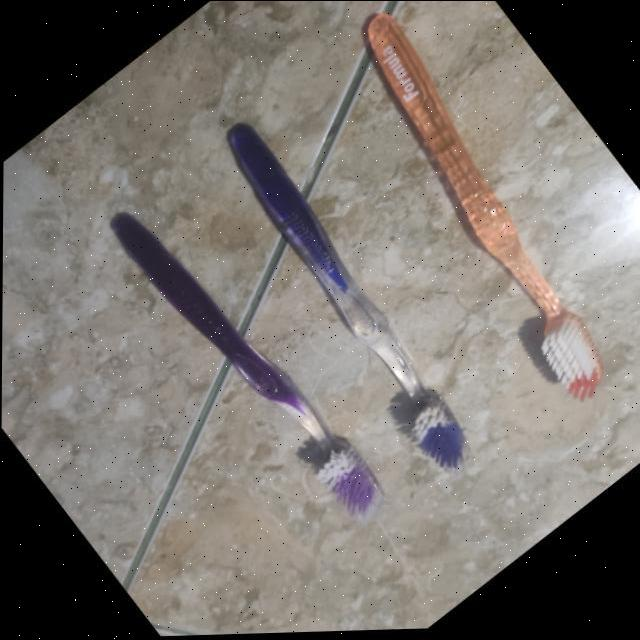toothbrush: (168, 68, 524, 498), (290, 0, 640, 430), (82, 157, 404, 558)
